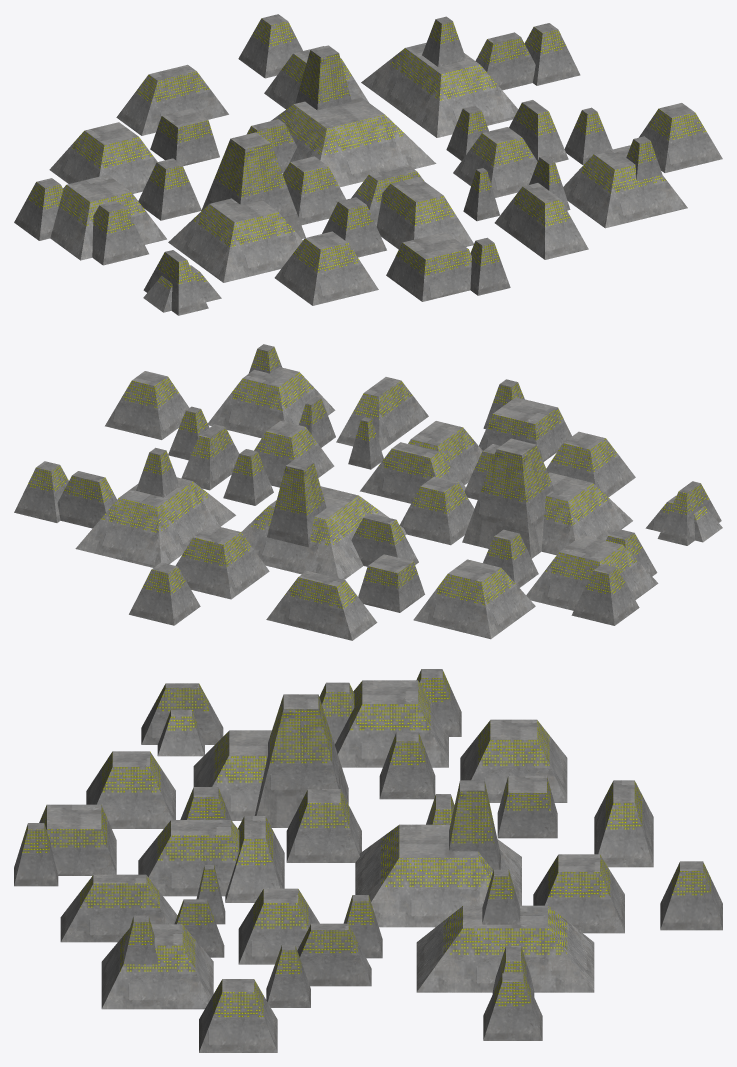
The model's file is SM_Building_01.fbx.
The picture shows the model from 3 angles, top to bottom: view 1: azimuth 30°, elevation 25°; view 2: azimuth 150°, elevation 25°; view 3: azimuth 270°, elevation 25°; orthographic projection. The views are drawn at different scales.
Visible parts, largest first — view 1: SM_Building_01; view 2: SM_Building_01; view 3: SM_Building_01.
Boxes of the visible parts, x1,y1,x2,y2 form: SM_Building_01: (14, 14, 722, 315); SM_Building_01: (14, 344, 722, 640); SM_Building_01: (14, 669, 722, 1052).
Bounding box in the file's own units: 19.28 × 2.8 × 16.94.
